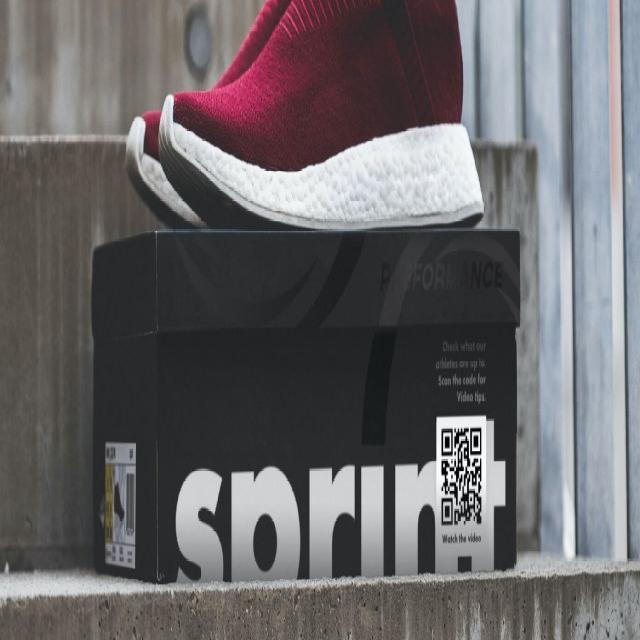qr_code: (441, 429, 482, 526)
